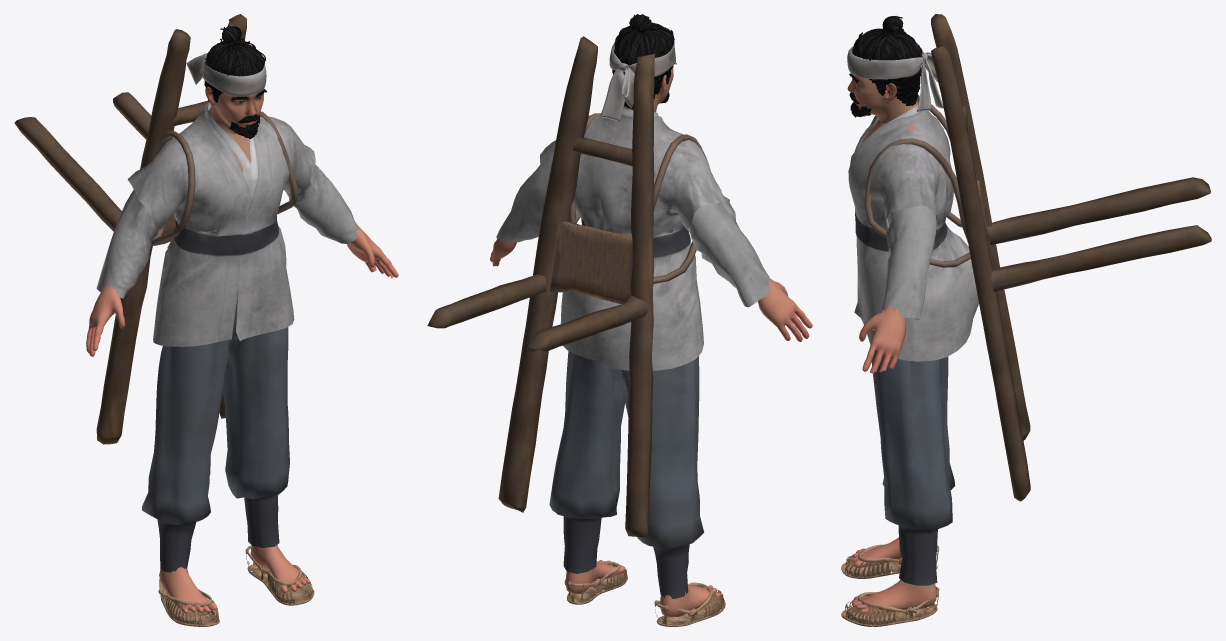
Rendered from woodcutter.fbx.
3 views of the same model, side by side, from view 1: azimuth 30°, elevation 25°; view 2: azimuth 150°, elevation 25°; view 3: azimuth 270°, elevation 25° (orthographic). The views are drawn at different scales.
Parts seen in each view (by area): view 1: NPC_WoodCutter_Mesh_0; view 2: NPC_WoodCutter_Mesh_0; view 3: NPC_WoodCutter_Mesh_0.
Part boxes in pixels (<box>): NPC_WoodCutter_Mesh_0: <box>14,14,398,626</box>; NPC_WoodCutter_Mesh_0: <box>427,14,812,626</box>; NPC_WoodCutter_Mesh_0: <box>841,14,1211,626</box>.
Bounding box in the file's own units: 99.92 × 179 × 104.
Materials: 3 (3 with a texture image).
